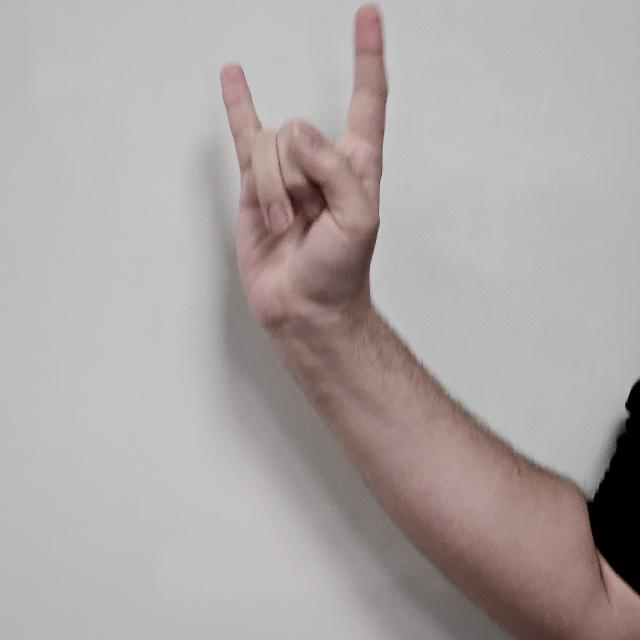L: (212, 2, 414, 328)
